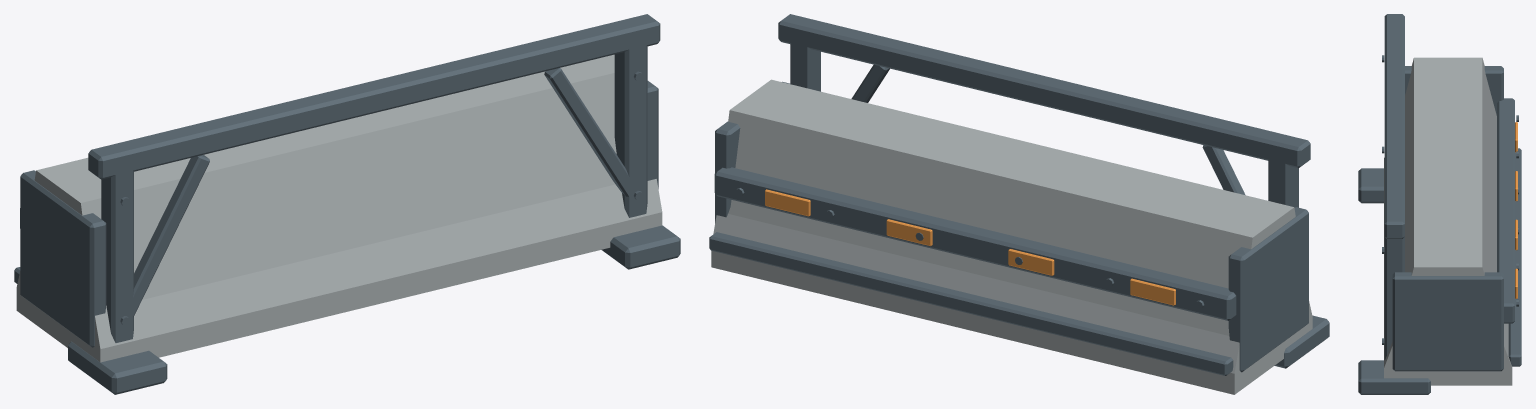
Rendered from ENV01-001_protective_barrier.glb.
3 renders of one model, left to right at view 1: azimuth 30°, elevation 25°; view 2: azimuth 150°, elevation 25°; view 3: azimuth 270°, elevation 25°, orthographic. The views are drawn at different scales.
Parts seen in each view (by area): view 1: Concrete_low_flared_core, Rear_top_steel_tie, Concrete_end_steel_strap_L, Rear_post_R, Rear_post_L, Rear_brace_L, Foot_plate_L, Rear_brace_R, Foot_plate_R, Concrete_end_steel_strap_R; view 2: Concrete_low_flared_core, Rear_top_steel_tie, Front_impact_rail, Front_toe_rail, Concrete_end_steel_strap_L, Rear_post_R, Rear_post_L, Concrete_end_steel_strap_R, Foot_plate_L, Rear_brace_L, Amber_reflector_04, Amber_reflector_01 (+3 smaller); view 3: Concrete_low_flared_core, Concrete_end_steel_strap_R, Rear_top_steel_tie, Front_impact_rail, Foot_plate_R, Front_toe_rail, Rear_post_R, Foot_plate_L, Concrete_end_steel_strap_L.
Part boxes in pixels (x1,y1,x2,y2): Concrete_low_flared_core: [16, 54, 662, 362]; Rear_top_steel_tie: [88, 14, 660, 179]; Concrete_end_steel_strap_L: [20, 170, 106, 347]; Rear_post_R: [614, 36, 647, 217]; Rear_post_L: [101, 161, 133, 342]; Rear_brace_L: [124, 155, 209, 324]; Foot_plate_L: [68, 341, 167, 394]; Rear_brace_R: [544, 68, 634, 201]; Foot_plate_R: [601, 225, 680, 269]; Concrete_end_steel_strap_R: [647, 81, 658, 188]; Concrete_low_flared_core: [711, 79, 1312, 394]; Rear_top_steel_tie: [778, 14, 1310, 168]; Front_impact_rail: [714, 167, 1236, 320]; Front_toe_rail: [709, 232, 1233, 375]; Concrete_end_steel_strap_L: [1228, 207, 1308, 372]; Rear_post_R: [790, 34, 820, 91]; Rear_post_L: [1268, 151, 1298, 207]; Concrete_end_steel_strap_R: [715, 81, 789, 222]; Foot_plate_L: [1274, 315, 1329, 368]; Rear_brace_L: [1202, 145, 1245, 195]; Amber_reflector_04: [765, 189, 810, 216]; Amber_reflector_01: [1130, 278, 1175, 305]; Concrete_low_flared_core: [1384, 57, 1512, 385]; Concrete_end_steel_strap_R: [1392, 272, 1503, 371]; Rear_top_steel_tie: [1384, 14, 1404, 238]; Front_impact_rail: [1497, 98, 1514, 323]; Foot_plate_R: [1358, 360, 1430, 394]; Front_toe_rail: [1508, 148, 1521, 366]; Rear_post_R: [1384, 237, 1404, 359]; Foot_plate_L: [1358, 168, 1383, 203]; Concrete_end_steel_strap_L: [1405, 66, 1503, 115].
Size of the model in its own units: 2.35 by 0.8875 by 0.763.
